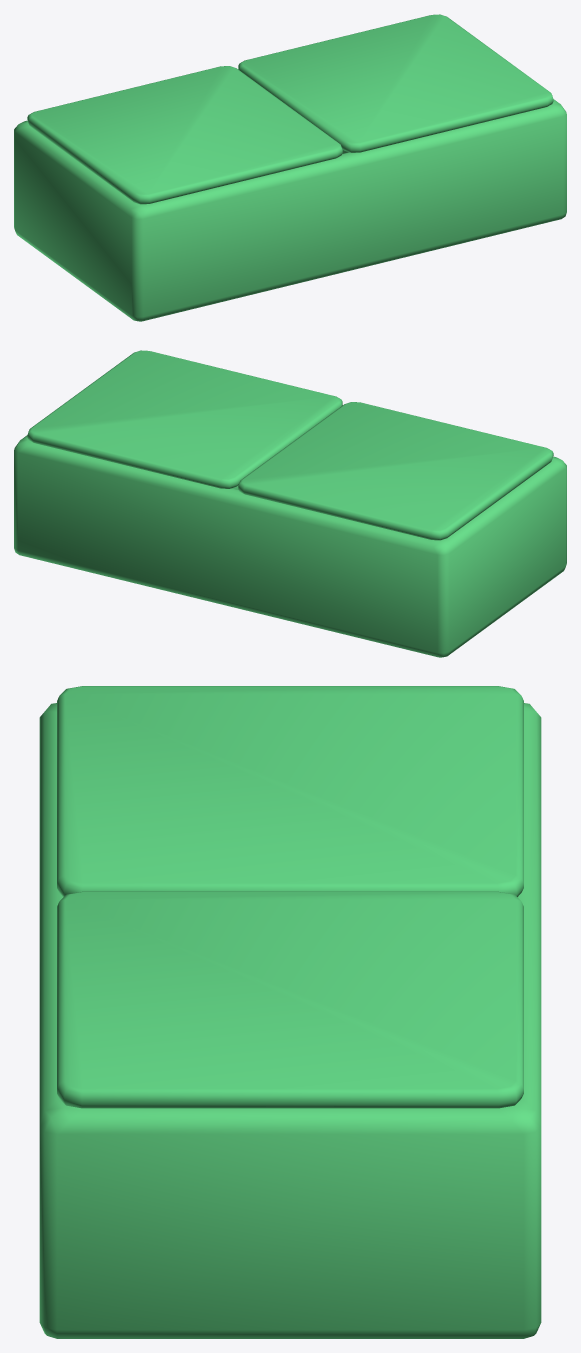
File: Block-I-Green.fbx
3 renders of one model, top to bottom at view 1: azimuth 30°, elevation 25°; view 2: azimuth 150°, elevation 25°; view 3: azimuth 270°, elevation 25°, orthographic. The views are drawn at different scales.
Visible parts, largest first — view 1: Block-I-Green, Cube.025; view 2: Block-I-Green, Cube.025; view 3: Cube.025, Block-I-Green.
Part boxes in pixels (x1,y1,x2,y2): Block-I-Green: [14, 69, 566, 321]; Cube.025: [27, 14, 553, 204]; Block-I-Green: [14, 405, 566, 657]; Cube.025: [27, 350, 553, 540]; Cube.025: [57, 686, 523, 1108]; Block-I-Green: [39, 703, 541, 1338].
Bounding box in the file's own units: 200 × 54.11 × 100.
